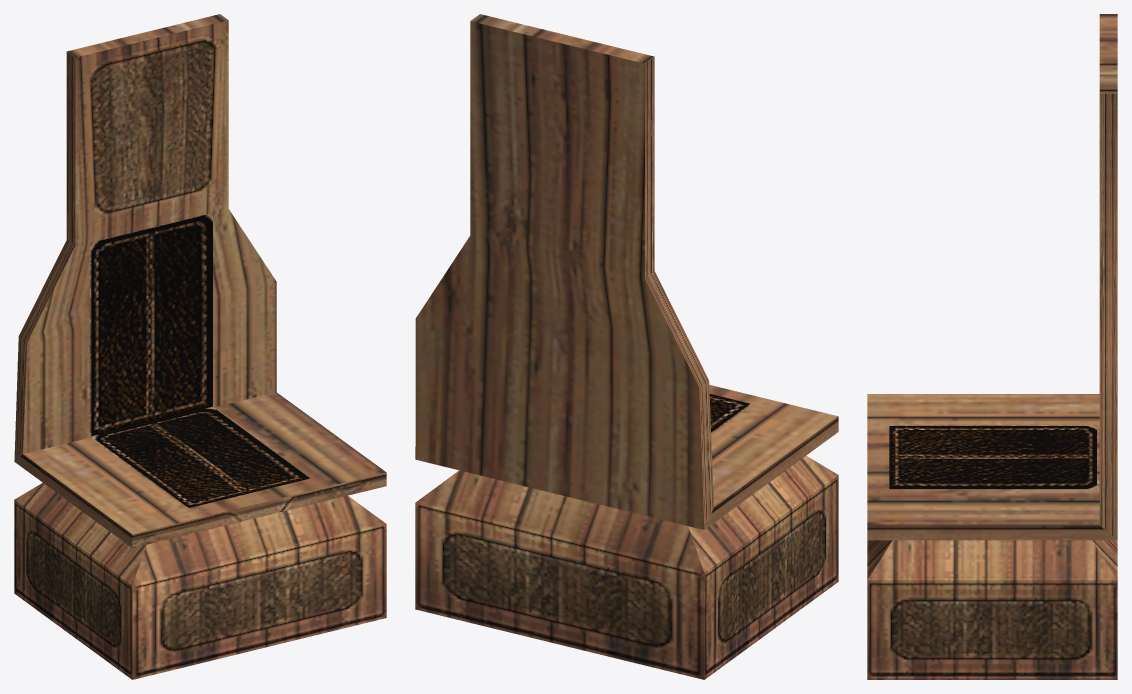
Rendered from frn_all_eleg_chair_s02_l1.fbx.
3 renders of one model, left to right at view 1: azimuth 30°, elevation 25°; view 2: azimuth 150°, elevation 25°; view 3: azimuth 270°, elevation 25°, orthographic. The views are drawn at different scales.
Visible parts, largest first — view 1: mesh_node; view 2: mesh_node; view 3: mesh_node.
Part boxes in pixels (<box>): mesh_node: <box>14,14,386,679</box>; mesh_node: <box>415,14,838,679</box>; mesh_node: <box>867,14,1117,679</box>.
Bounding box in the file's own units: 0.6884 × 1.37 × 0.554.
1 material, 1 textured.
